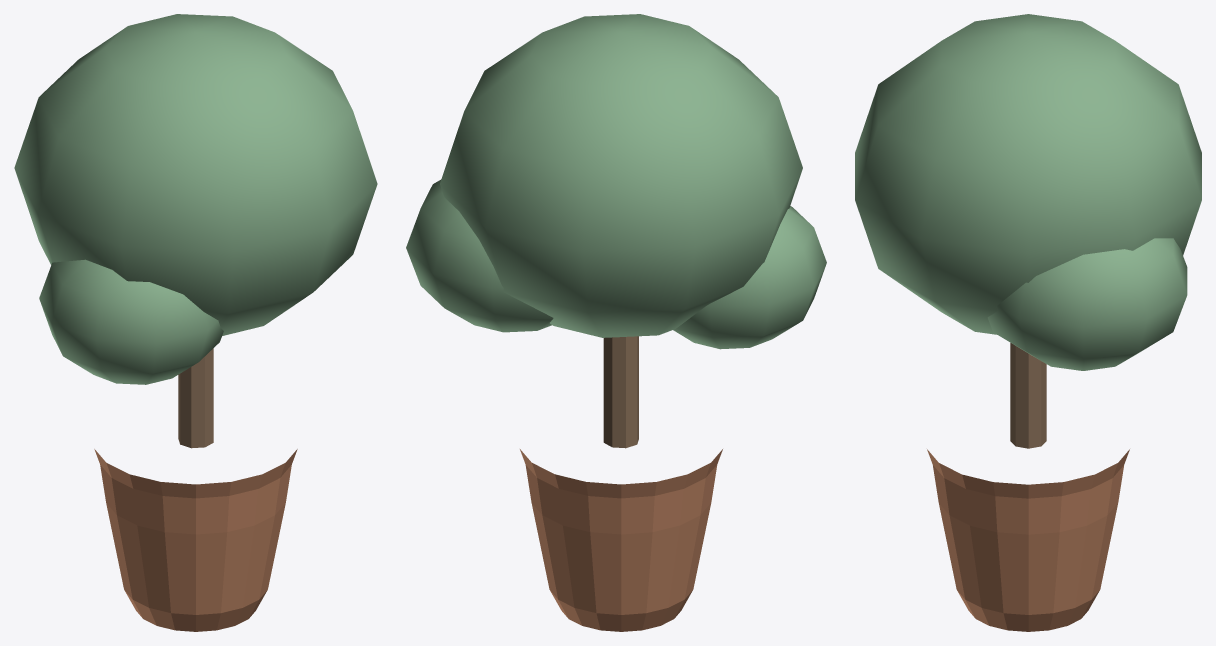
File: plant.glb
The picture shows the model from 3 angles, left to right: view 1: azimuth 30°, elevation 25°; view 2: azimuth 150°, elevation 25°; view 3: azimuth 270°, elevation 25°; orthographic projection.
Parts seen in each view (by area): view 1: plant; view 2: plant; view 3: plant.
Boxes of the visible parts, x1,y1,x2,y2 form: plant: (14,14,377,631); plant: (406,14,826,631); plant: (855,14,1201,631).
Bounding box in the file's own units: 65 × 104 × 57.06.
